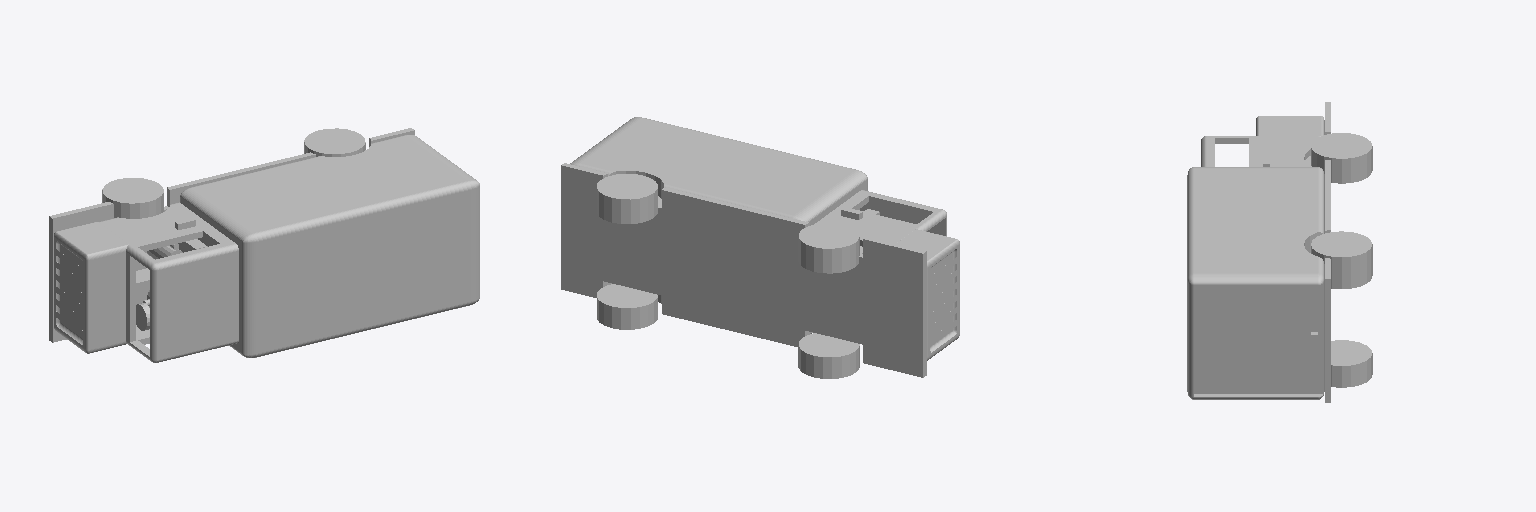
The model's file is Truck_0.obj.
3 views of the same model, side by side, from view 1: azimuth 30°, elevation 25°; view 2: azimuth 150°, elevation 25°; view 3: azimuth 270°, elevation 25° (orthographic).
Visible parts, largest first — view 1: obj_0; view 2: obj_0; view 3: obj_0.
Part boxes in pixels (x1,y1,x2,y2): obj_0: (49,128,479,362); obj_0: (561,117,959,378); obj_0: (1187,102,1372,402).
Size of the model in its own units: 61 by 21 by 27.